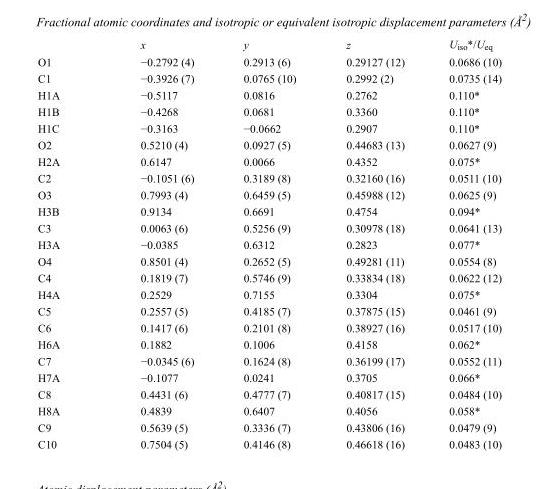table: (37, 37, 501, 449)
table column: (99, 37, 218, 449), (320, 37, 426, 449), (218, 37, 320, 449), (426, 37, 501, 449), (37, 37, 99, 449)
table column header: (37, 37, 501, 53)
table row: (37, 69, 501, 86), (37, 102, 501, 119), (37, 119, 501, 136), (37, 152, 501, 169), (37, 169, 501, 186), (37, 202, 501, 219), (37, 235, 501, 252), (37, 252, 501, 269), (37, 285, 501, 302), (37, 302, 501, 319), (37, 335, 501, 352), (37, 368, 501, 385), (37, 385, 501, 402), (37, 418, 501, 435), (37, 37, 501, 53), (37, 53, 501, 69), (37, 86, 501, 102), (37, 136, 501, 152), (37, 186, 501, 202), (37, 219, 501, 235), (37, 269, 501, 285), (37, 319, 501, 335), (37, 352, 501, 368), (37, 402, 501, 418), (37, 435, 501, 449)
